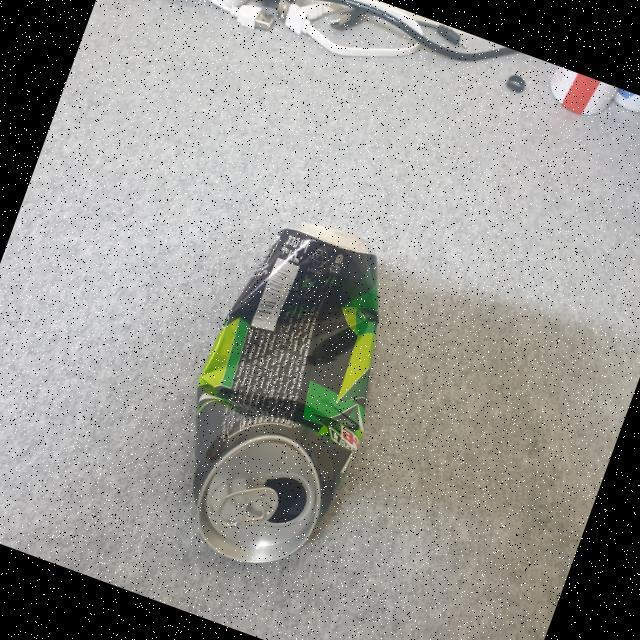can: (121, 182, 443, 604)
